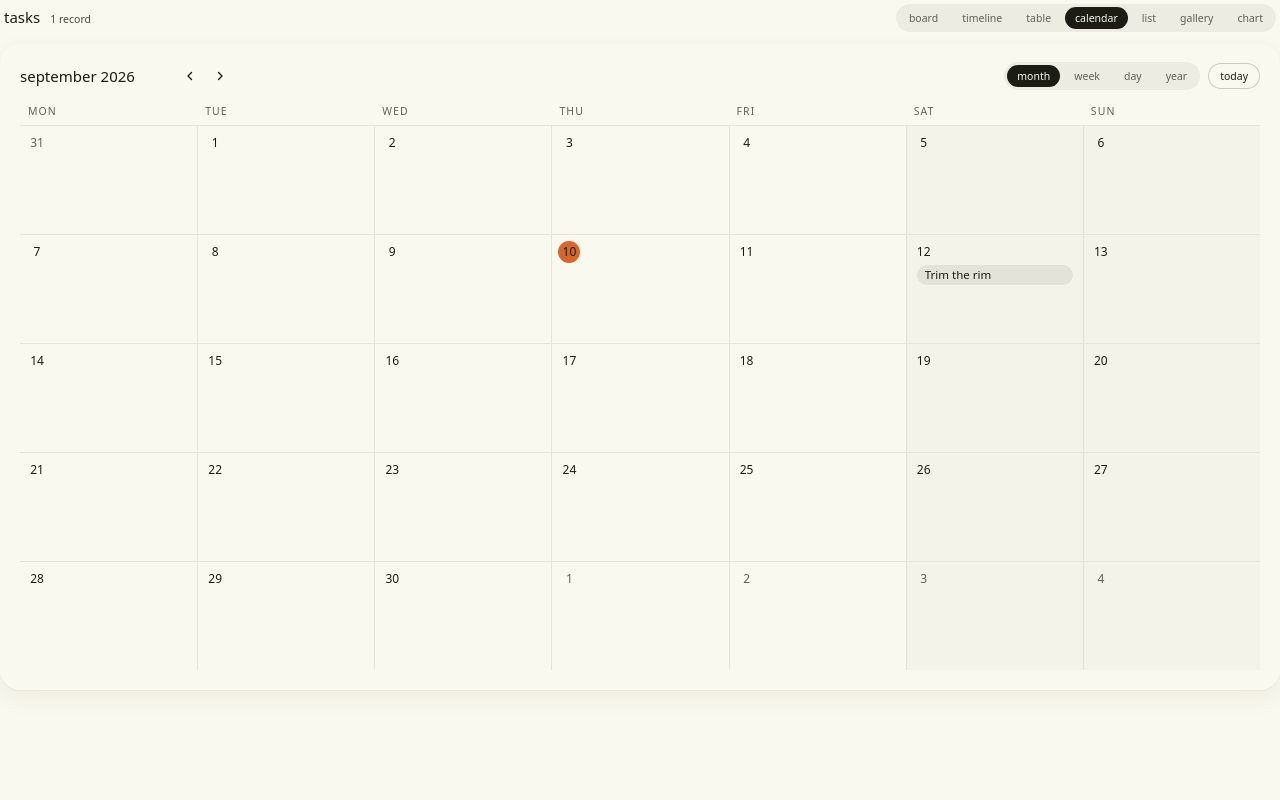
Test case: CollectionView — dragging a calendar event onto another day (KAN-385 path) › a press that never travels is a click: it selects and opens the record peek at once
Press the mouse on the text "Trim the rim" at (995, 275), box [917,265,1073,285]
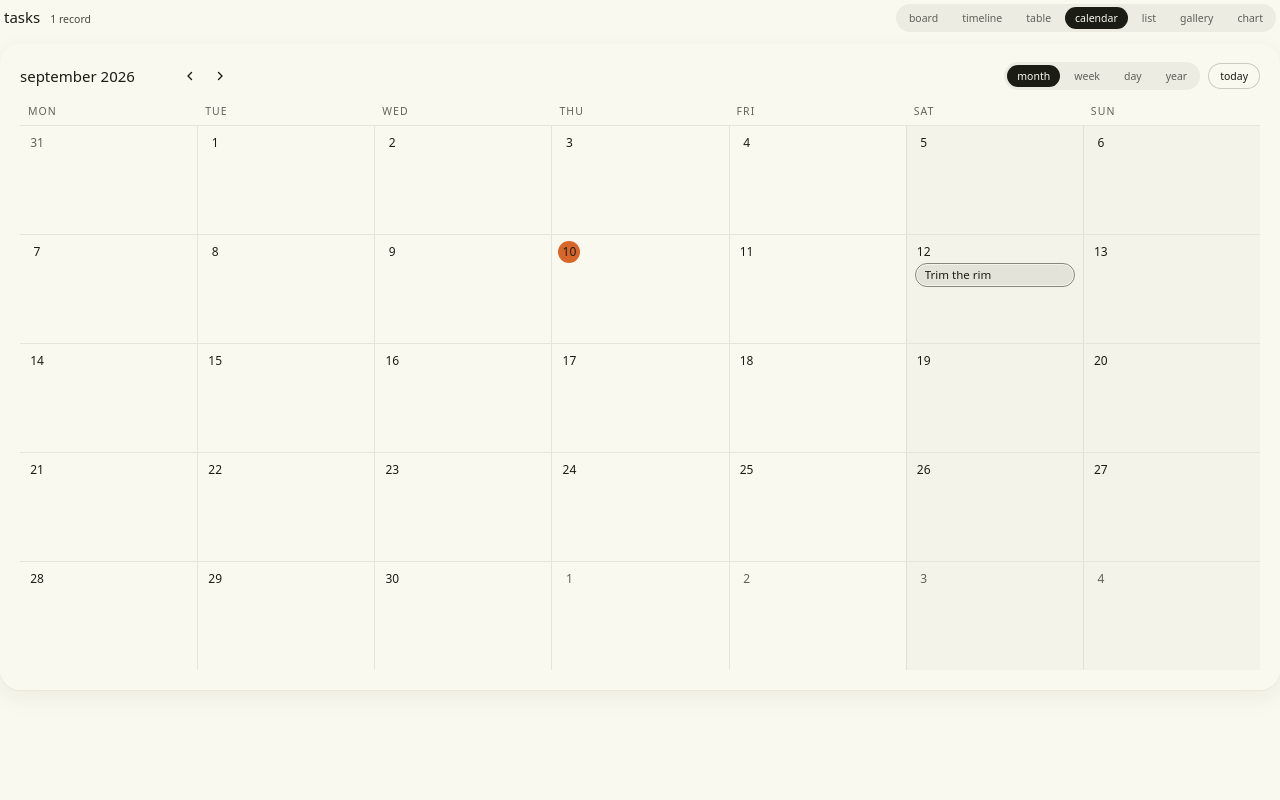
Click the text "Trim the rim" at (995, 275), box [917,265,1073,285]
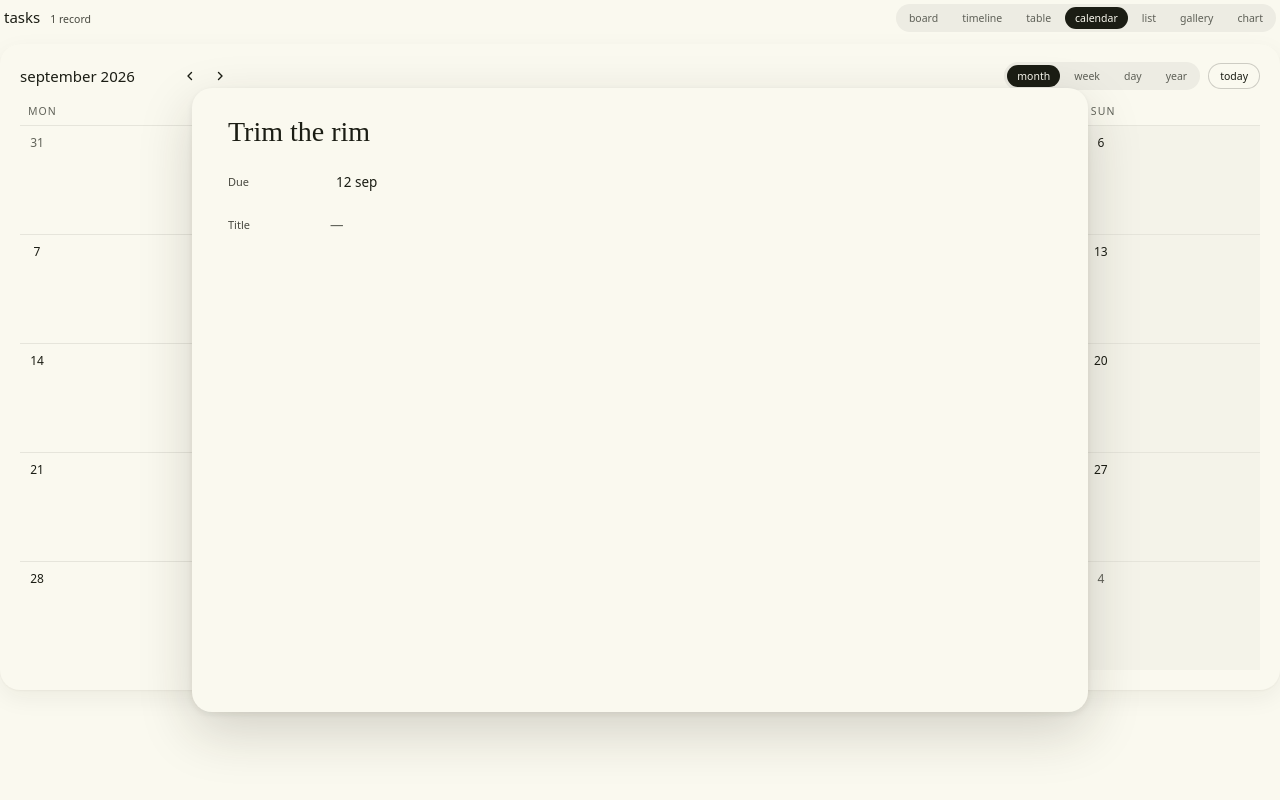
Now the element named "Record: Trim the rim" is shown, box [192,88,1088,712]
